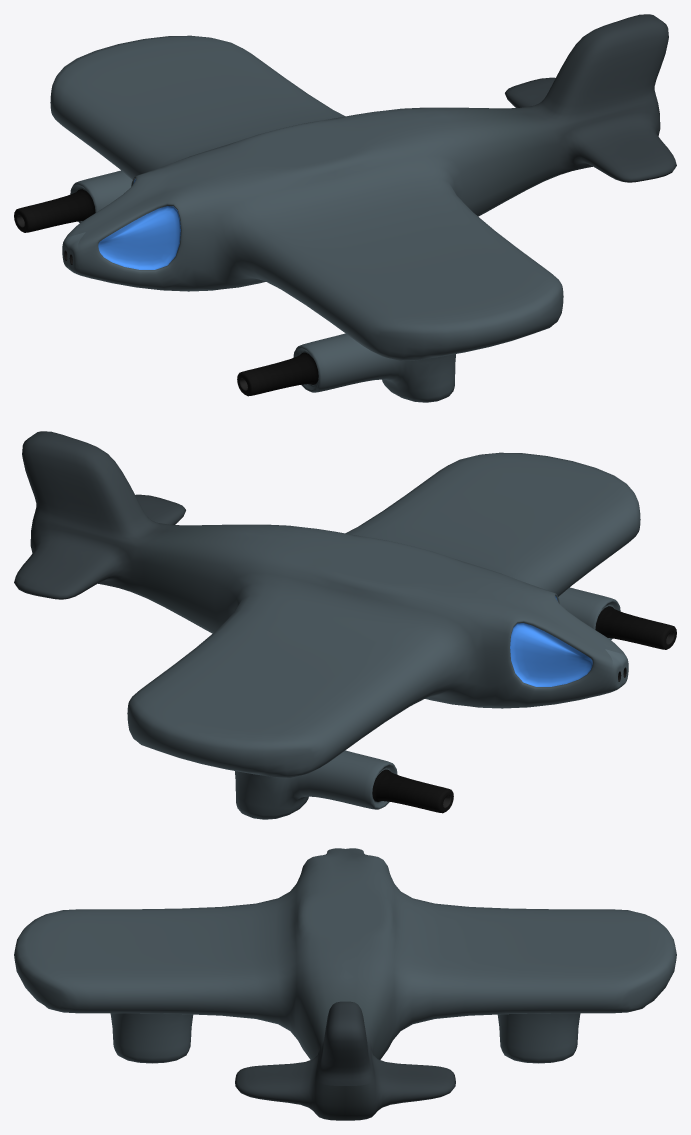
Rendered from styloo-planeanimal-001.glb.
3 renders of one model, top to bottom at view 1: azimuth 30°, elevation 25°; view 2: azimuth 150°, elevation 25°; view 3: azimuth 270°, elevation 25°, orthographic. The views are drawn at different scales.
Parts seen in each view (by area): view 1: Cube; view 2: Cube; view 3: Cube.
Part boxes in pixels (x1=…): Cube: x1=14, y1=14, x2=676, y2=402; Cube: x1=14, y1=431, x2=676, y2=819; Cube: x1=14, y1=848, x2=676, y2=1120.
Bounding box in the file's own units: 6.19 × 2.06 × 6.89.
Materials: 1 (1 with a texture image).
